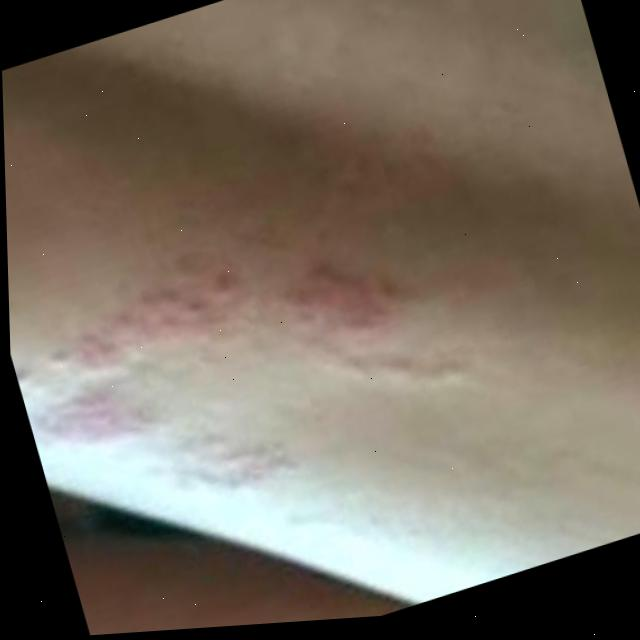Shingles: (8, 253, 305, 559), (265, 225, 480, 437)
